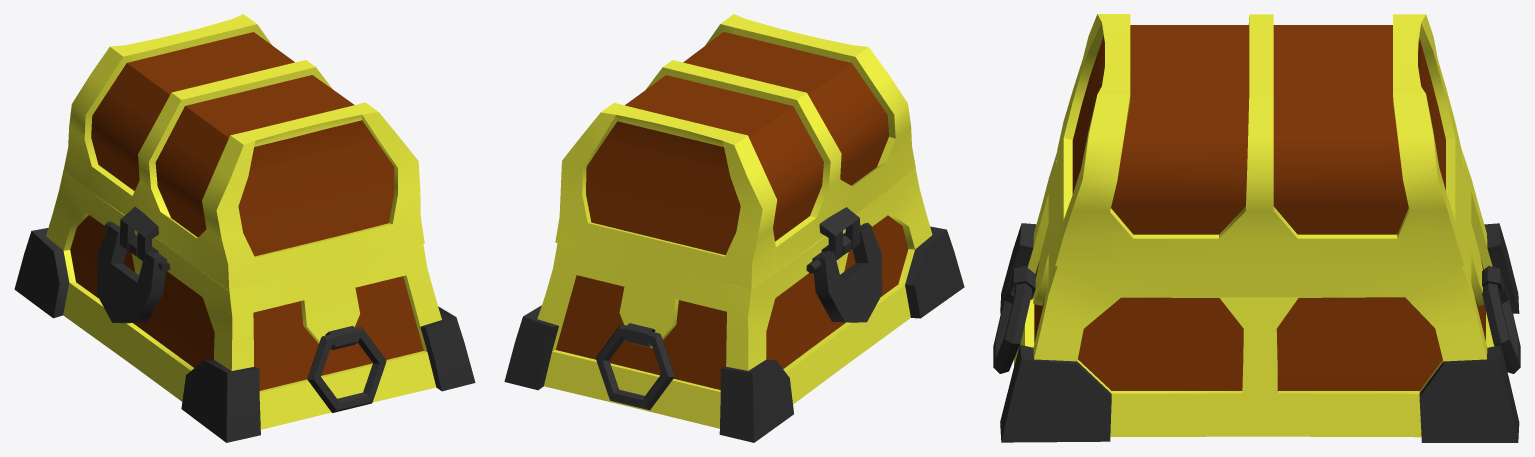
File: chest.fbx
3 renders of one model, left to right at view 1: azimuth 30°, elevation 25°; view 2: azimuth 150°, elevation 25°; view 3: azimuth 270°, elevation 25°, orthographic. The views are drawn at different scales.
Visible parts, largest first — view 1: TreasureChest_Top, TreasureChest_Bottom, Ring001; view 2: TreasureChest_Top, TreasureChest_Bottom, Ring002; view 3: TreasureChest_Top, TreasureChest_Bottom, Ring001, Ring002.
Boxes of the visible parts, x1,y1,x2,y2 form: TreasureChest_Top: (63, 14, 424, 323); TreasureChest_Bottom: (14, 170, 475, 442); Ring001: (307, 326, 386, 412); TreasureChest_Top: (555, 14, 915, 322); TreasureChest_Bottom: (504, 169, 964, 442); Ring002: (596, 323, 674, 410); TreasureChest_Top: (1055, 14, 1464, 268); TreasureChest_Bottom: (1000, 150, 1519, 442); Ring001: (993, 266, 1035, 373); Ring002: (1482, 266, 1520, 373).
Size of the model in its own units: 39.15 by 37.15 by 56.55.
